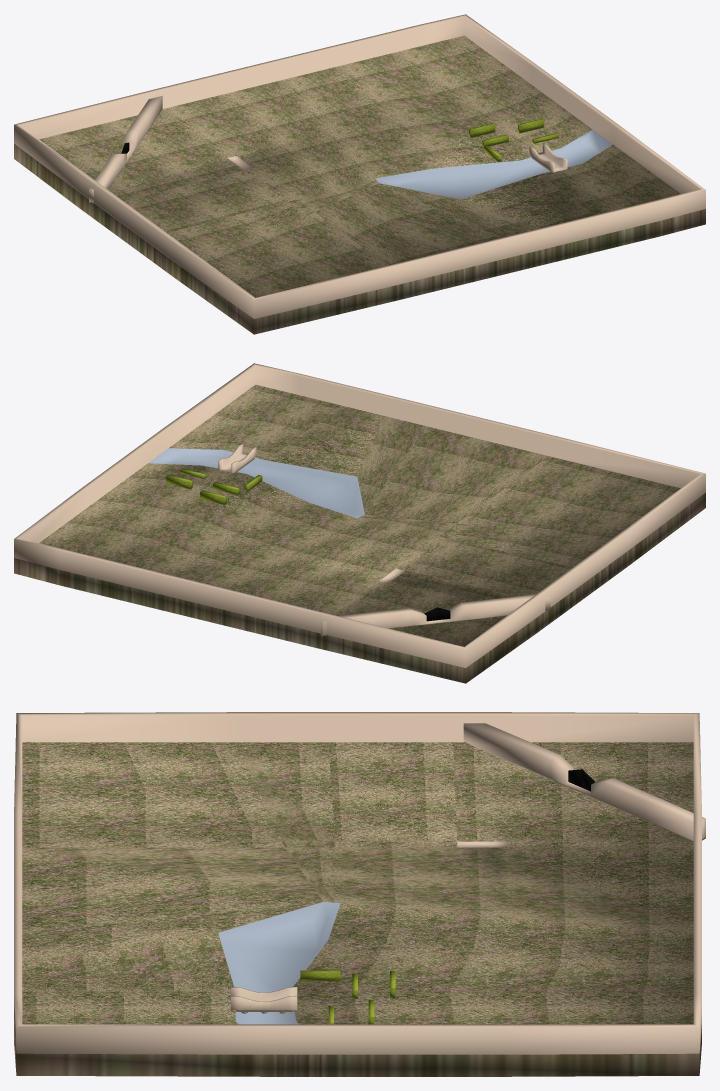
The model's file is Buckingham Palace5.fbx.
The picture shows the model from 3 angles, top to bottom: view 1: azimuth 30°, elevation 25°; view 2: azimuth 150°, elevation 25°; view 3: azimuth 270°, elevation 25°; orthographic projection. The views are drawn at different scales.
Parts seen in each view (by area): view 1: 平面; view 2: 平面; view 3: 平面.
Boxes of the visible parts, x1,y1,x2,y2 form: 平面: (14, 14, 705, 334); 平面: (14, 363, 705, 683); 平面: (14, 712, 705, 1076).
Bounding box in the file's own units: 58232 × 4177 × 53527.
5 materials, 2 textured.
